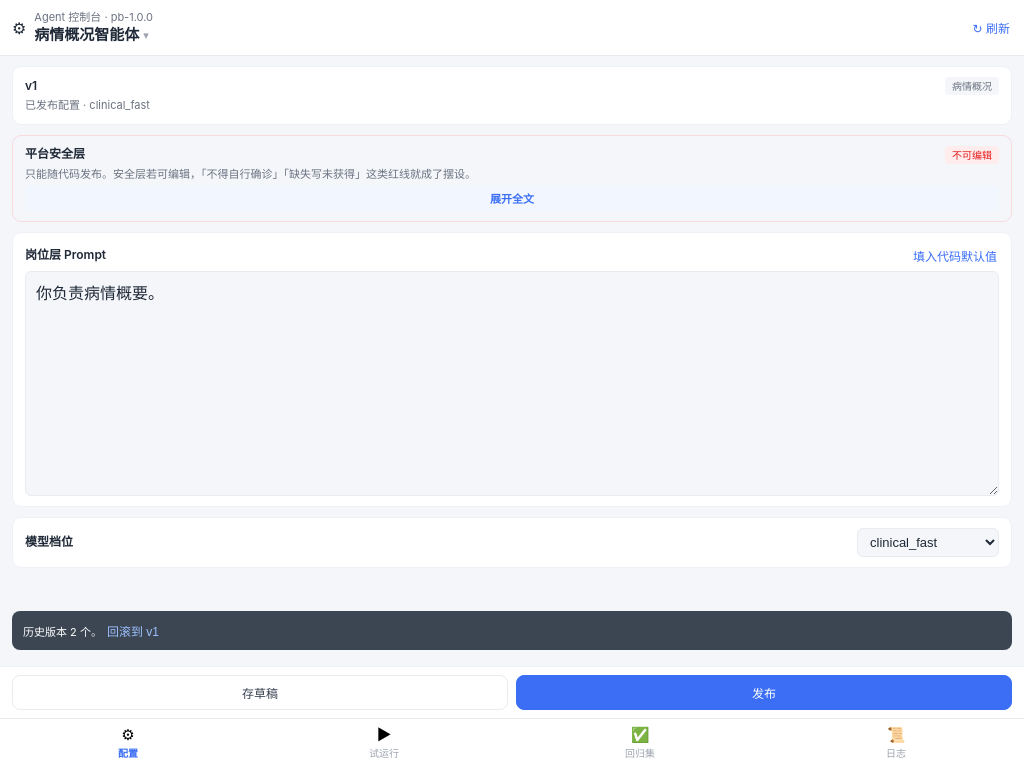
Scenario: 控制台移动端 · 数据集管理 › 一行一集，带来源、条数与依据
Click the button "✅ 回归集".
click(640, 744)  # box [512,727,768,760]
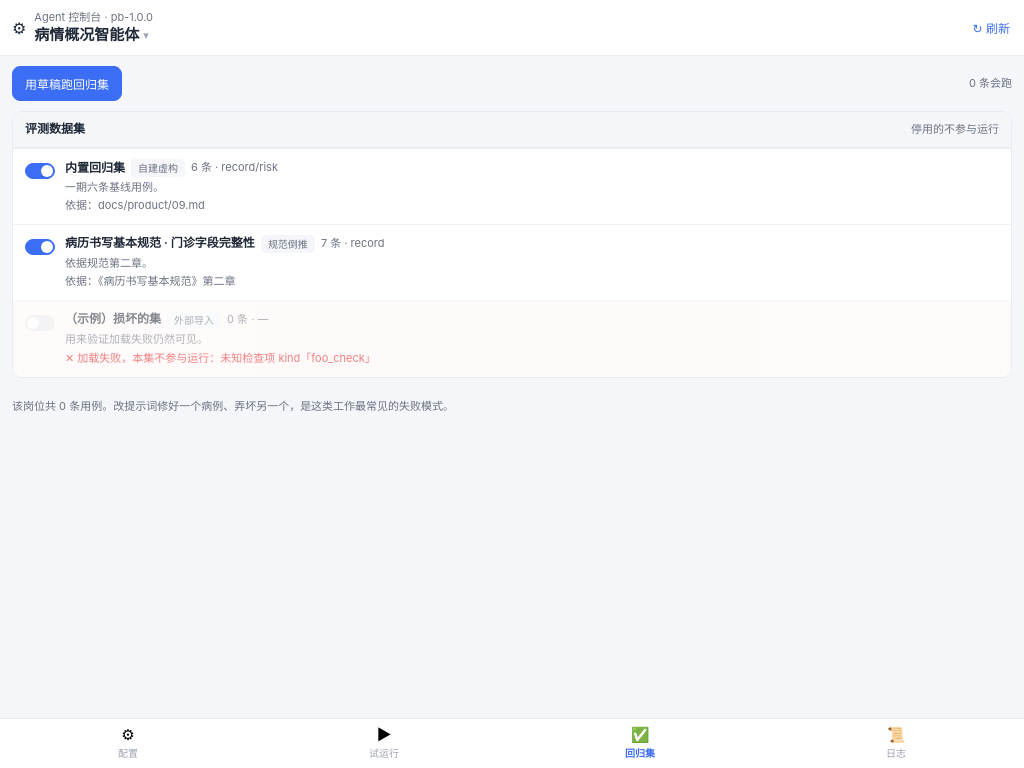
Result: the element that starts with "病历书写基本规范 · 门诊字段完整性" shows "规范倒推" at [268,238,308,250]
Result: the element that starts with "病历书写基本规范 · 门诊字段完整性" shows "7 条" at [321,236,384,250]
Result: the element that starts with "病历书写基本规范 · 门诊字段完整性" shows "《病历书写基本规范》第二章" at [65,274,236,288]
